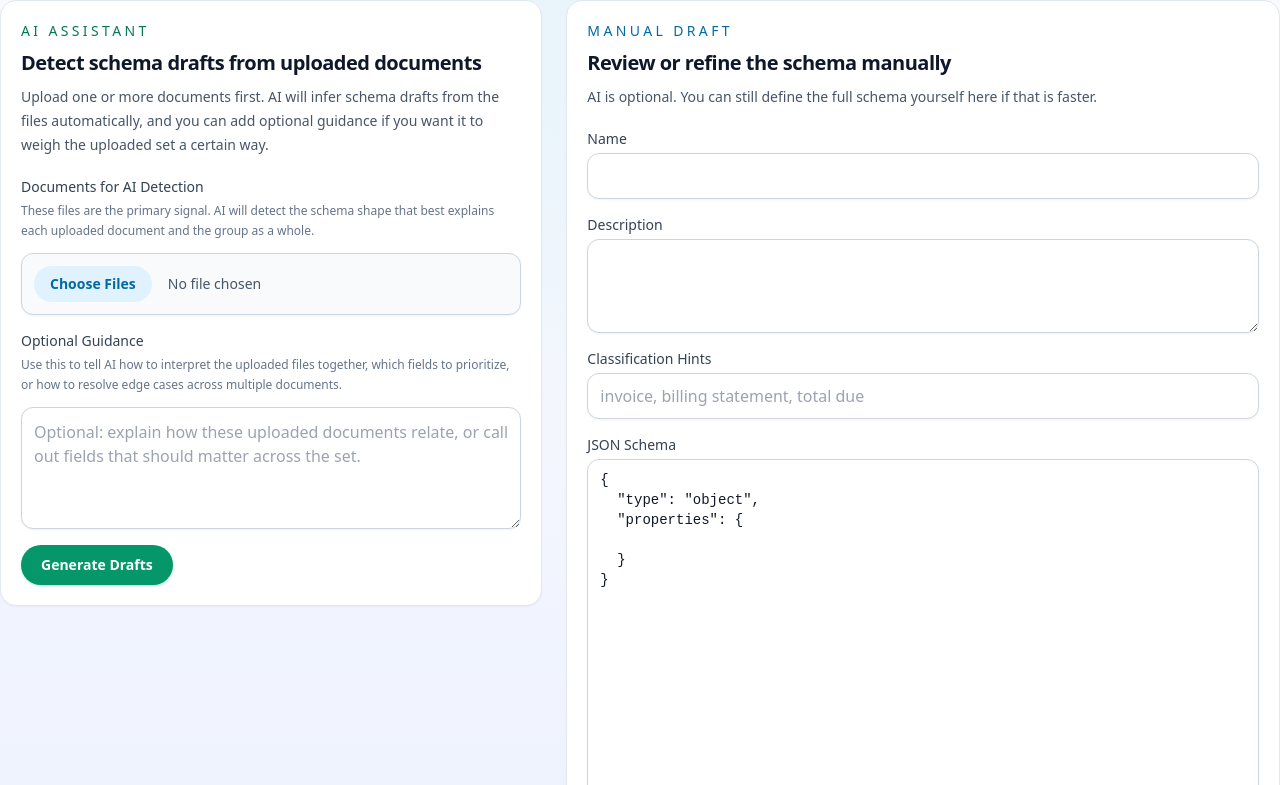
SchemaWorkbench › highlights the editor after using a detected draft
This screenshot has width=1280, height=785.
Replace the text in the text box labelled "Optional Guidance" with "Build a contract schema" at (271, 468), box [21,407,521,529]
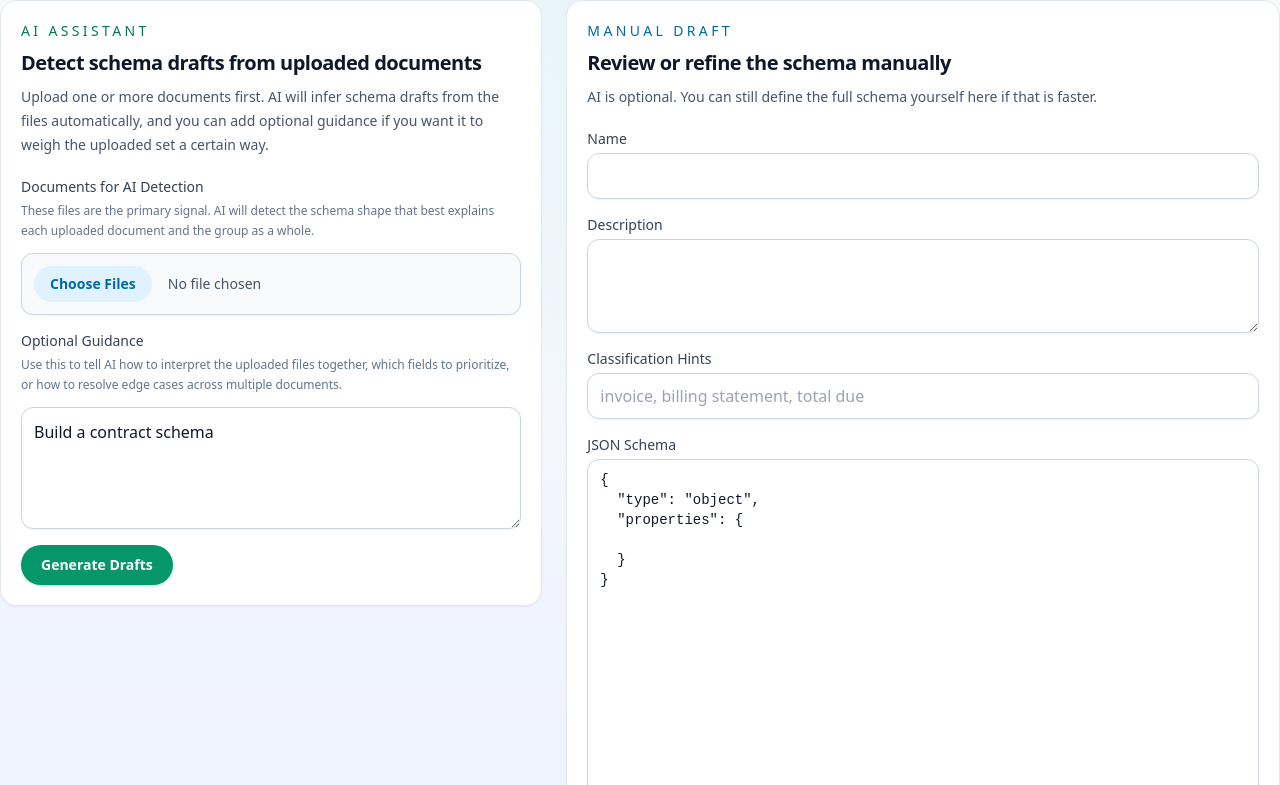
Click the button "Generate Drafts" at (97, 565), box [21,545,173,585]
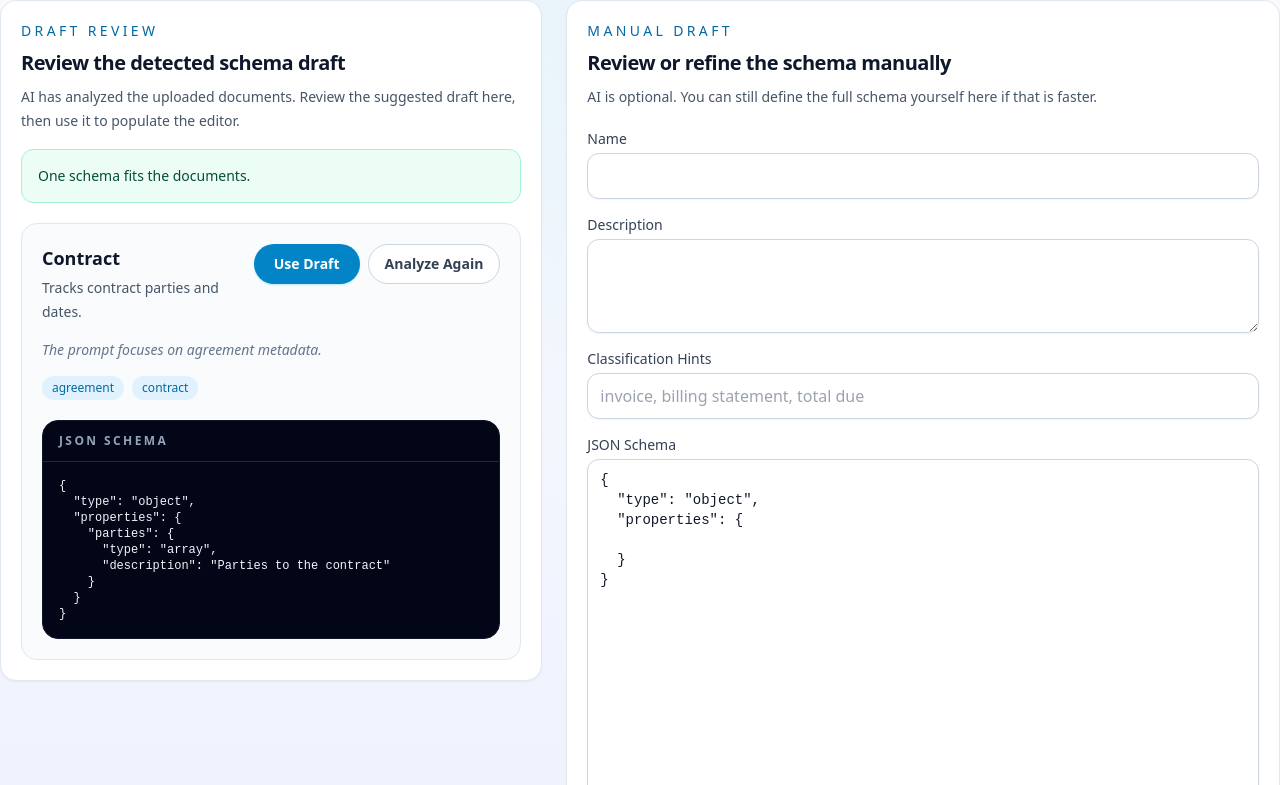
Check: the button "Use Draft" is shown
Click the button "Use Draft" at (307, 264), box [254,244,360,284]
(page scrolled)
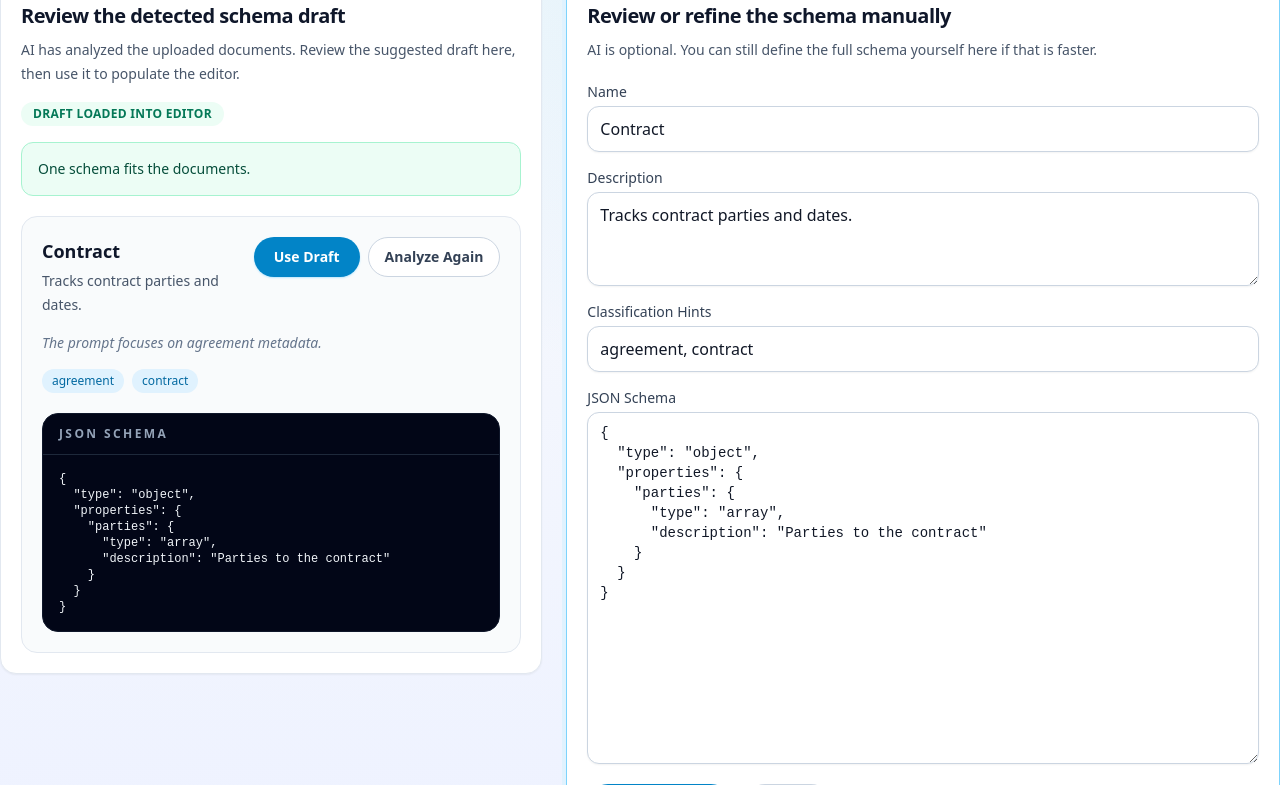
Check: the field labelled "Name" holds "Contract", box [587,106,1259,152]
Check: the text "Draft loaded into editor" is shown, box [21,102,224,126]
